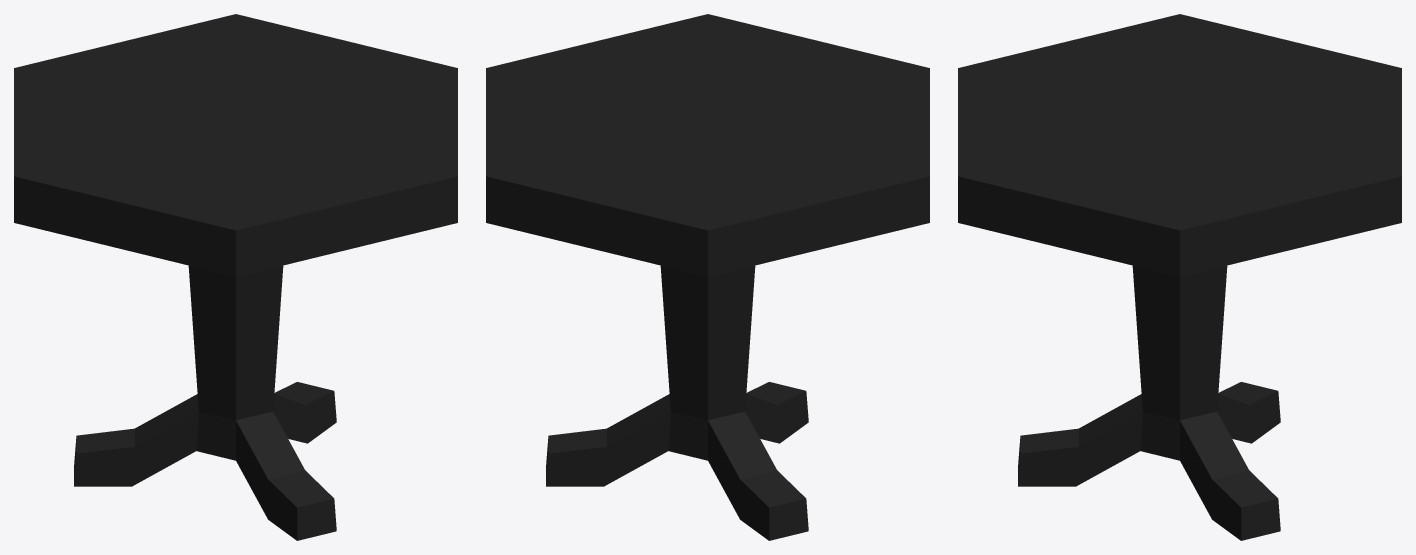
File: table.fbx
3 views of the same model, side by side, from view 1: azimuth 30°, elevation 25°; view 2: azimuth 150°, elevation 25°; view 3: azimuth 270°, elevation 25° (orthographic).
Visible parts, largest first — view 1: pCylinder3; view 2: pCylinder3; view 3: pCylinder3.
Part boxes in pixels (box(x1,y1,x2,y2)): pCylinder3: box(14, 14, 457, 540); pCylinder3: box(486, 14, 929, 540); pCylinder3: box(958, 14, 1401, 540).
Bounding box in the file's own units: 1.12 × 0.856 × 0.9707.
1 material, 1 textured.
